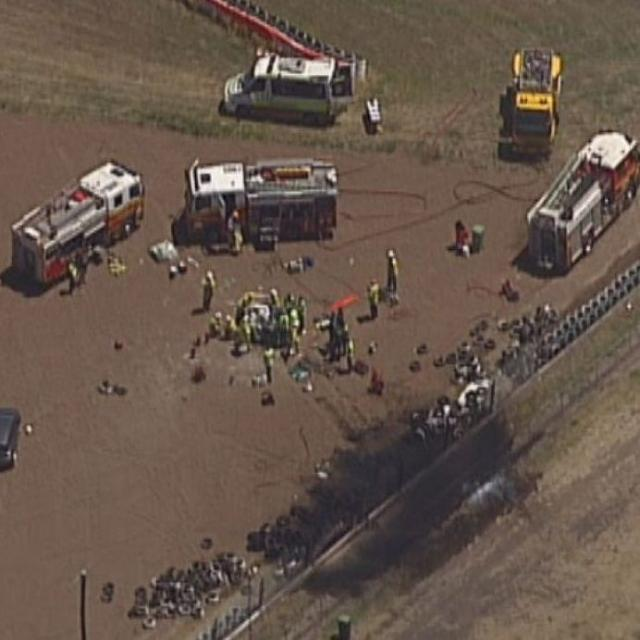traffic_incident: (233, 278, 310, 360)
